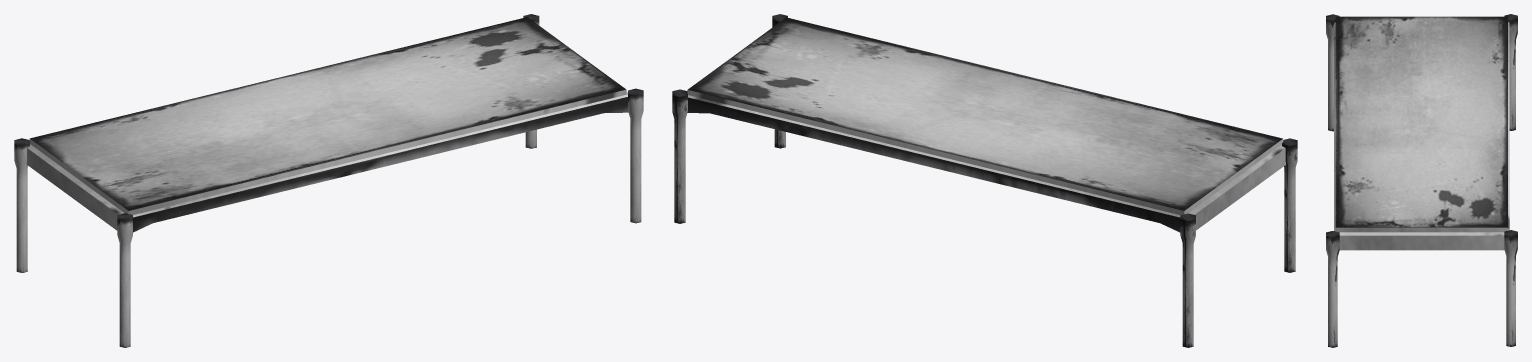
The model's file is stolikbrust.glb.
3 views of the same model, side by side, from view 1: azimuth 30°, elevation 25°; view 2: azimuth 150°, elevation 25°; view 3: azimuth 270°, elevation 25° (orthographic). The views are drawn at different scales.
Visible parts, largest first — view 1: Box001, Cylinder001, Cylinder002, Cylinder004; view 2: Box001, Cylinder003, Cylinder004, Cylinder001; view 3: Box001, Cylinder003, Cylinder002, Cylinder004, Cylinder001.
Part boxes in pixels (x1=…): Box001: x1=26, y1=17, x2=628, y2=232; Cylinder001: x1=117, y1=213, x2=132, y2=347; Cylinder002: x1=628, y1=88, x2=643, y2=223; Cylinder004: x1=14, y1=138, x2=29, y2=272; Box001: x1=687, y1=17, x2=1285, y2=232; Cylinder003: x1=672, y1=89, x2=687, y2=223; Cylinder004: x1=1180, y1=213, x2=1195, y2=347; Cylinder001: x1=1282, y1=138, x2=1297, y2=272; Box001: x1=1334, y1=16, x2=1509, y2=250; Cylinder003: x1=1504, y1=230, x2=1517, y2=346; Cylinder002: x1=1326, y1=231, x2=1339, y2=347; Cylinder004: x1=1504, y1=14, x2=1517, y2=130; Cylinder001: x1=1326, y1=14, x2=1339, y2=131.
Size of the model in its own units: 1.54 by 0.3689 by 0.5599.
Materials: 1 (1 with a texture image).
